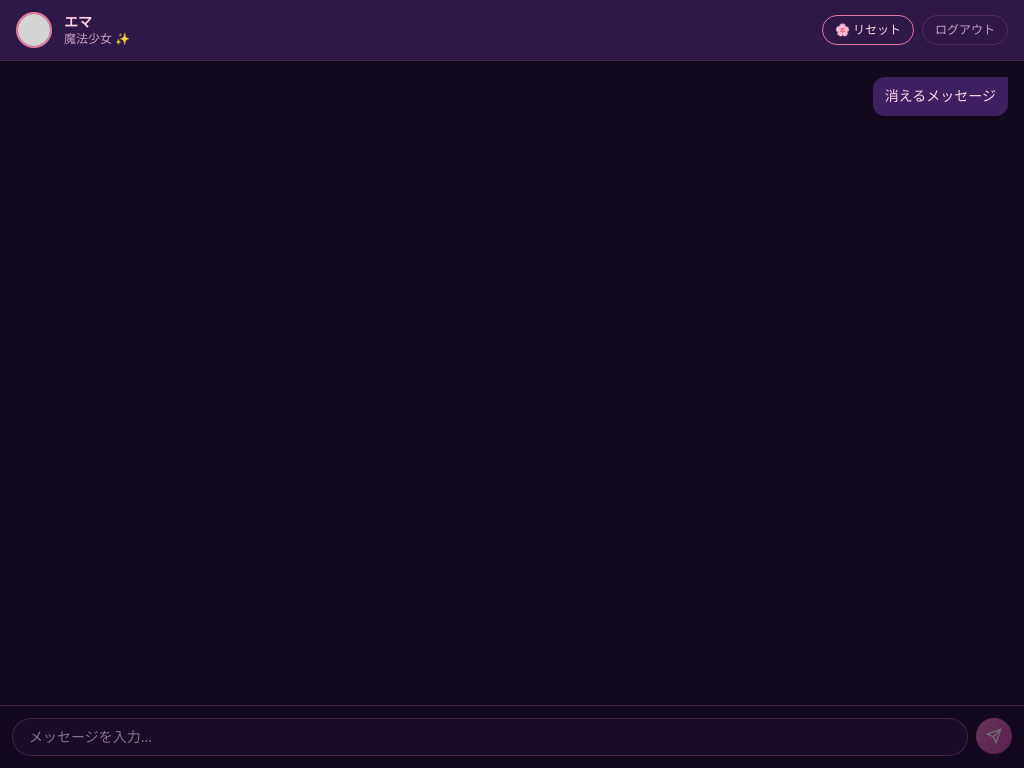
Test: ChatPage › resets messages when reset button is clicked
Expected: the text "消えるメッセージ" is shown, [873,77,1008,116]
Click the button "🌸 リセット". click: (868, 30)
box: [822,15,914,45]
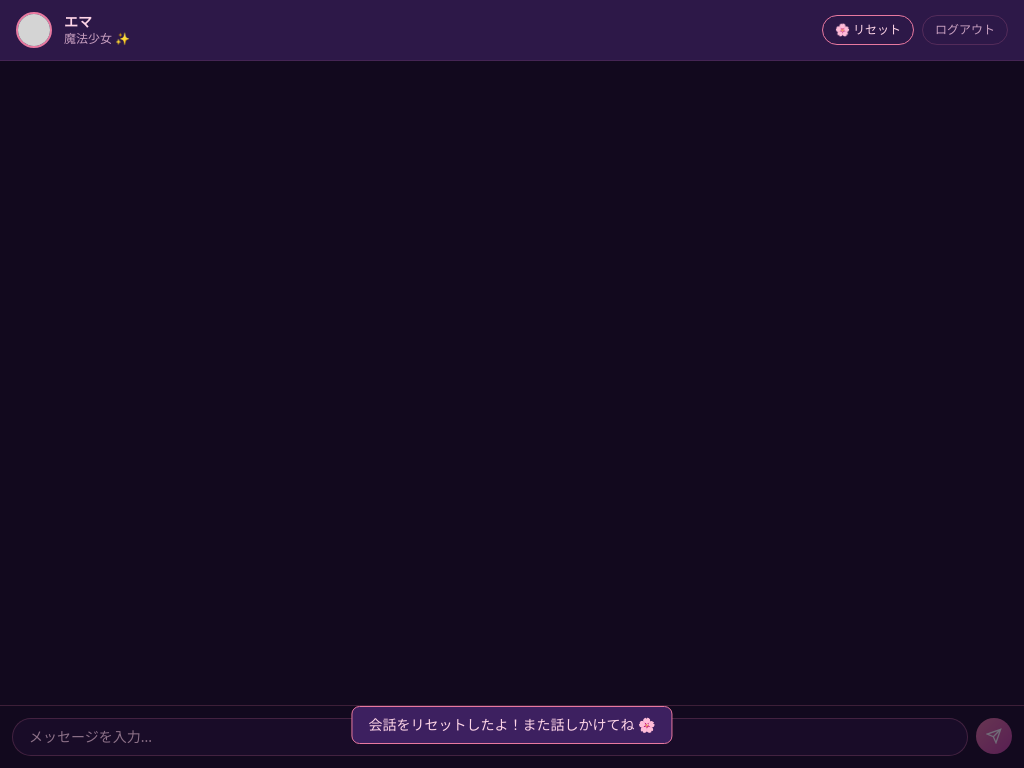
Now the text "消えるメッセージ" is gone
